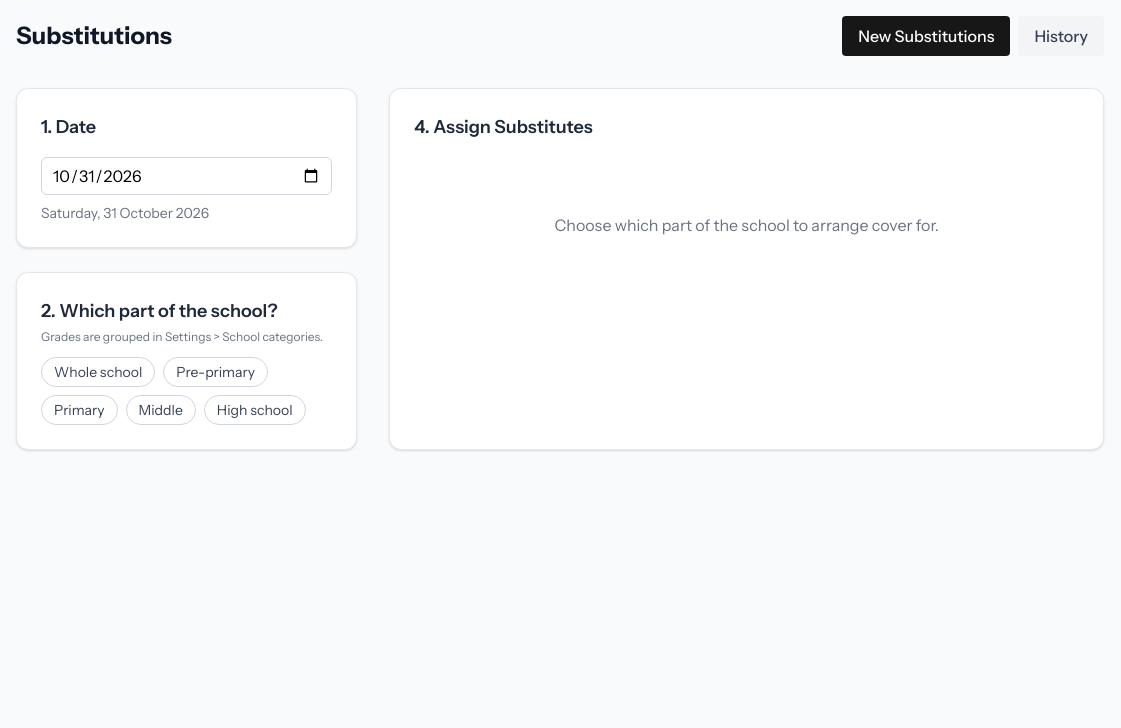
Scenario: choosing who is absent › lists teachers alphabetically, titles ignored
Type "2026-10-26" into the date field named "Date" at (187, 176), box [41,157,332,195]
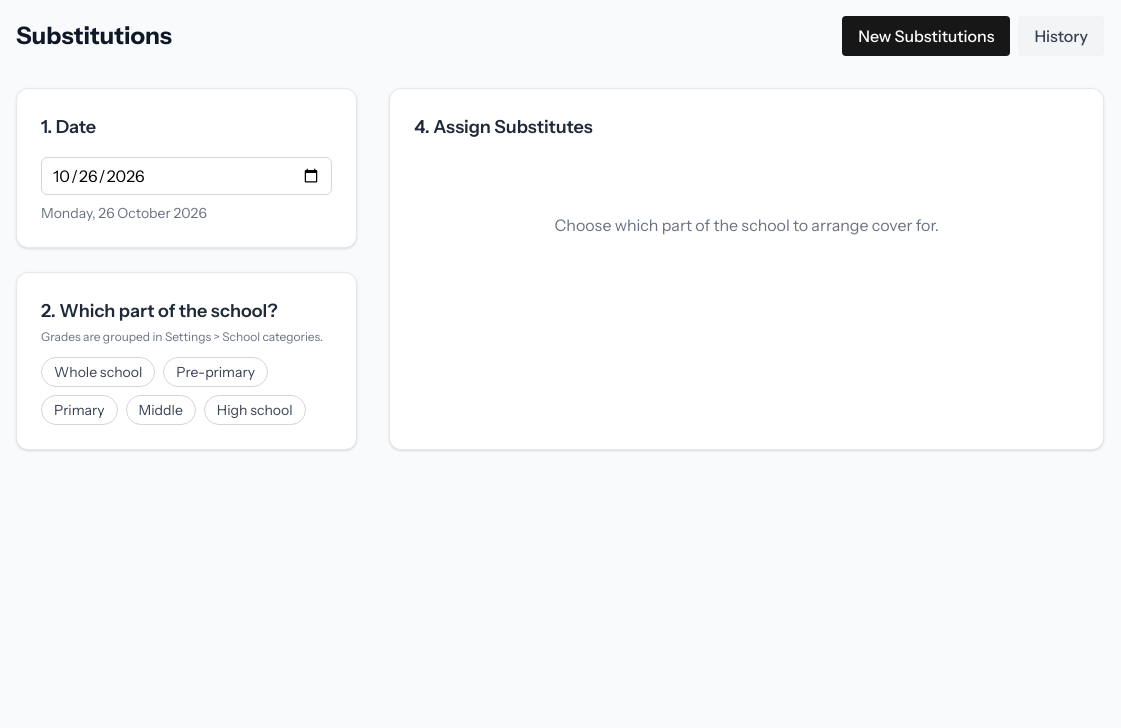
Click the radio button labelled "Whole school" at (98, 372), box [41,357,155,387]
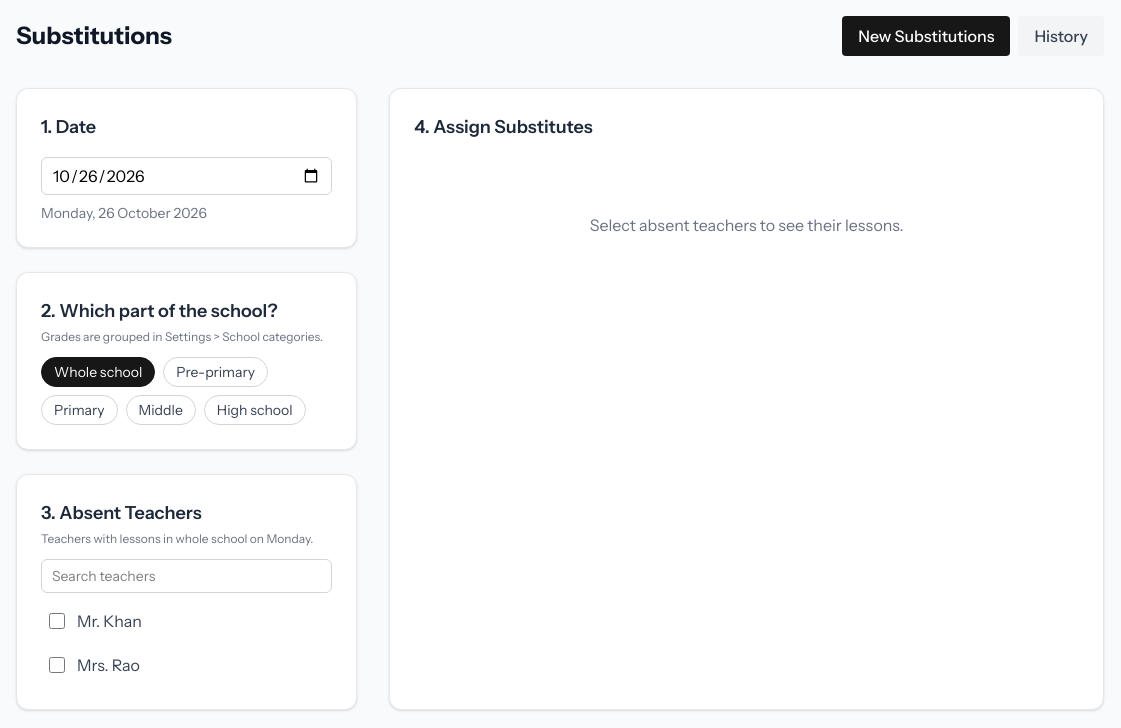
Now the checkbox labelled "Mrs. Rao" is shown, box [49,657,65,673]
